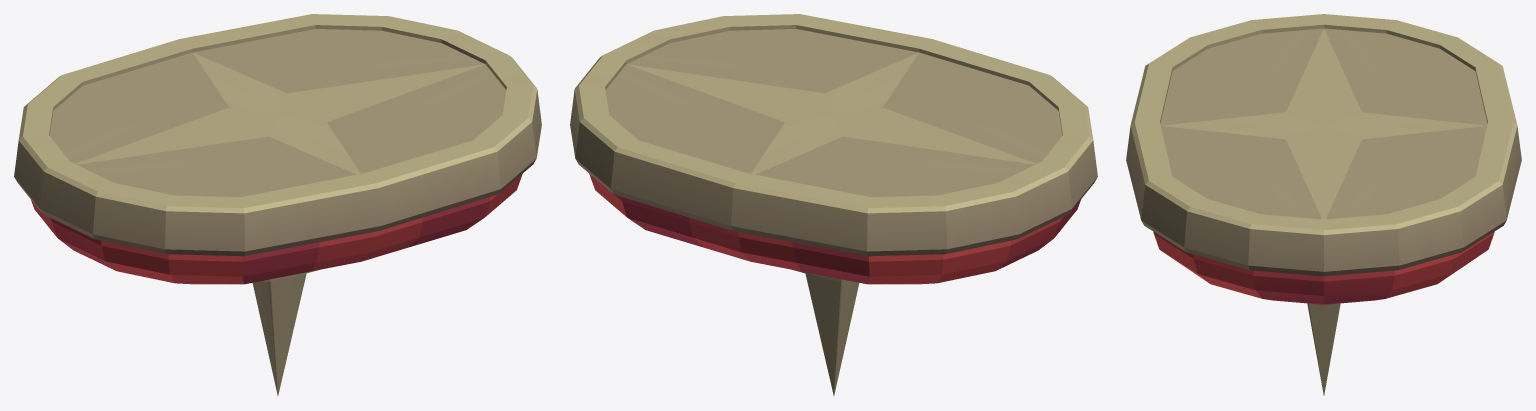
File: SM_Chandelier_4_Level2.fbx
3 renders of one model, left to right at view 1: azimuth 30°, elevation 25°; view 2: azimuth 150°, elevation 25°; view 3: azimuth 270°, elevation 25°, orthographic. The views are drawn at different scales.
Parts seen in each view (by area): view 1: SM_Chandelier4; view 2: SM_Chandelier4; view 3: SM_Chandelier4.
Boxes of the visible parts, left/top/right/bottom form: SM_Chandelier4: left=14, top=14, right=541, bottom=395; SM_Chandelier4: left=570, top=14, right=1097, bottom=395; SM_Chandelier4: left=1126, top=14, right=1521, bottom=395.
Size of the model in its own units: 406 by 304 by 233.
